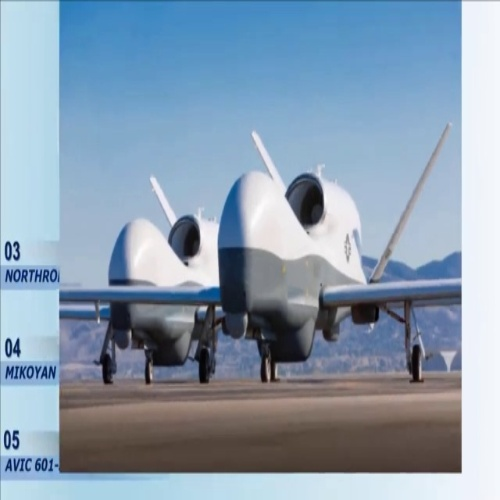uav: (59, 124, 460, 394), (62, 167, 215, 381)
